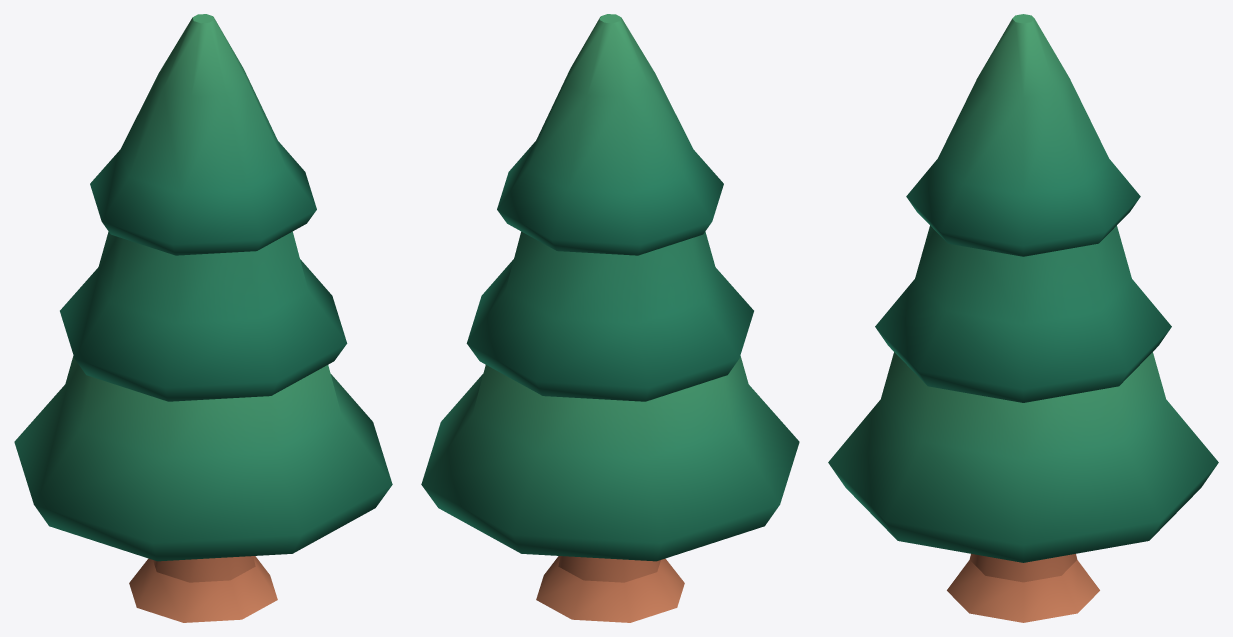
File: tree.glb
The picture shows the model from 3 angles, left to right: view 1: azimuth 30°, elevation 25°; view 2: azimuth 150°, elevation 25°; view 3: azimuth 270°, elevation 25°; orthographic projection.
Parts seen in each view (by area): view 1: tree; view 2: tree; view 3: tree.
Part boxes in pixels (x1,y1,x2,y2): tree: (14, 14, 392, 622); tree: (421, 14, 799, 622); tree: (828, 14, 1218, 622).
Size of the model in its own units: 1.19 by 1.92 by 1.19.
